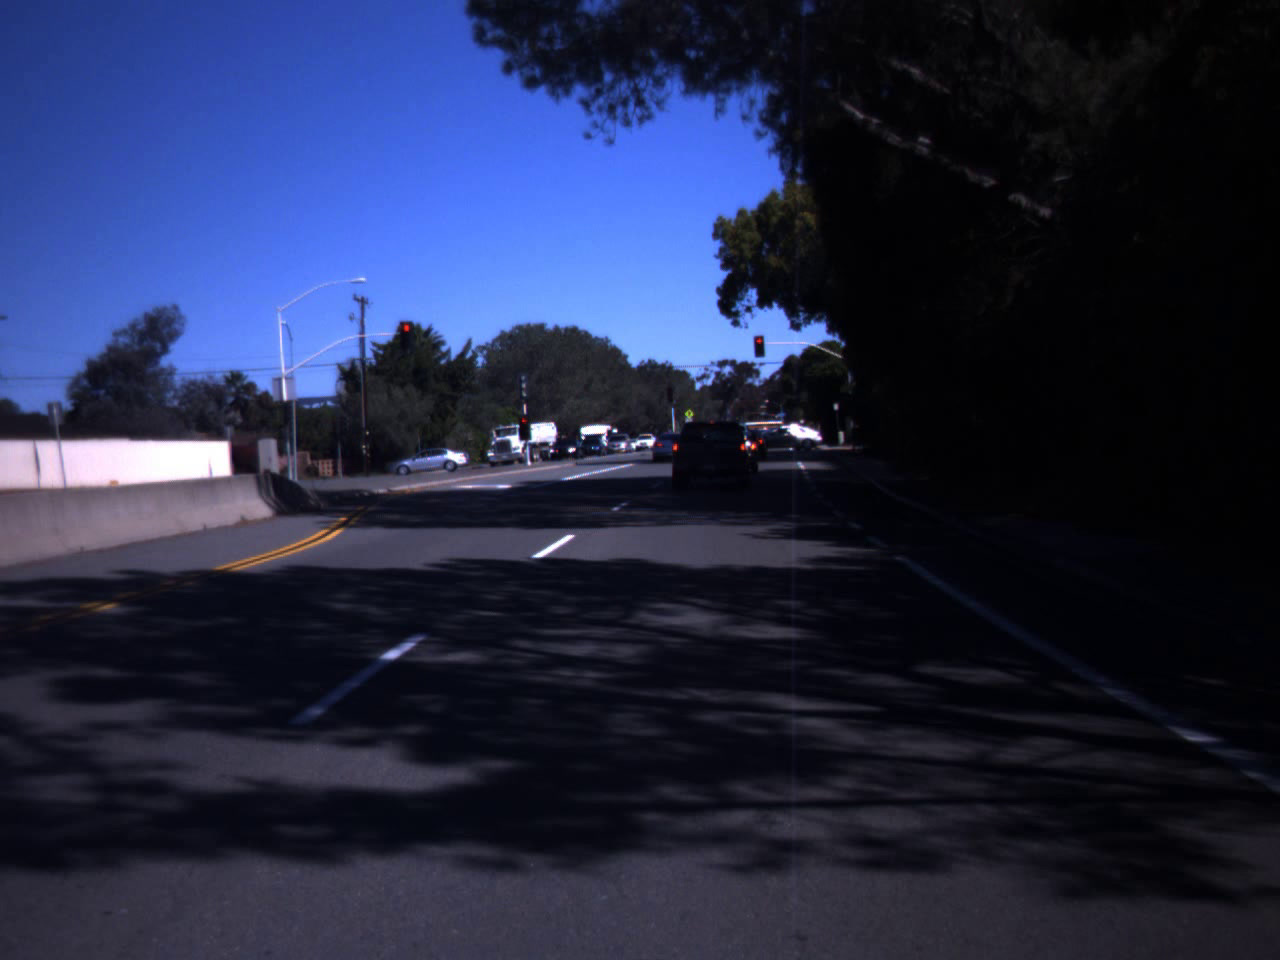stop: (400, 324, 412, 342)
